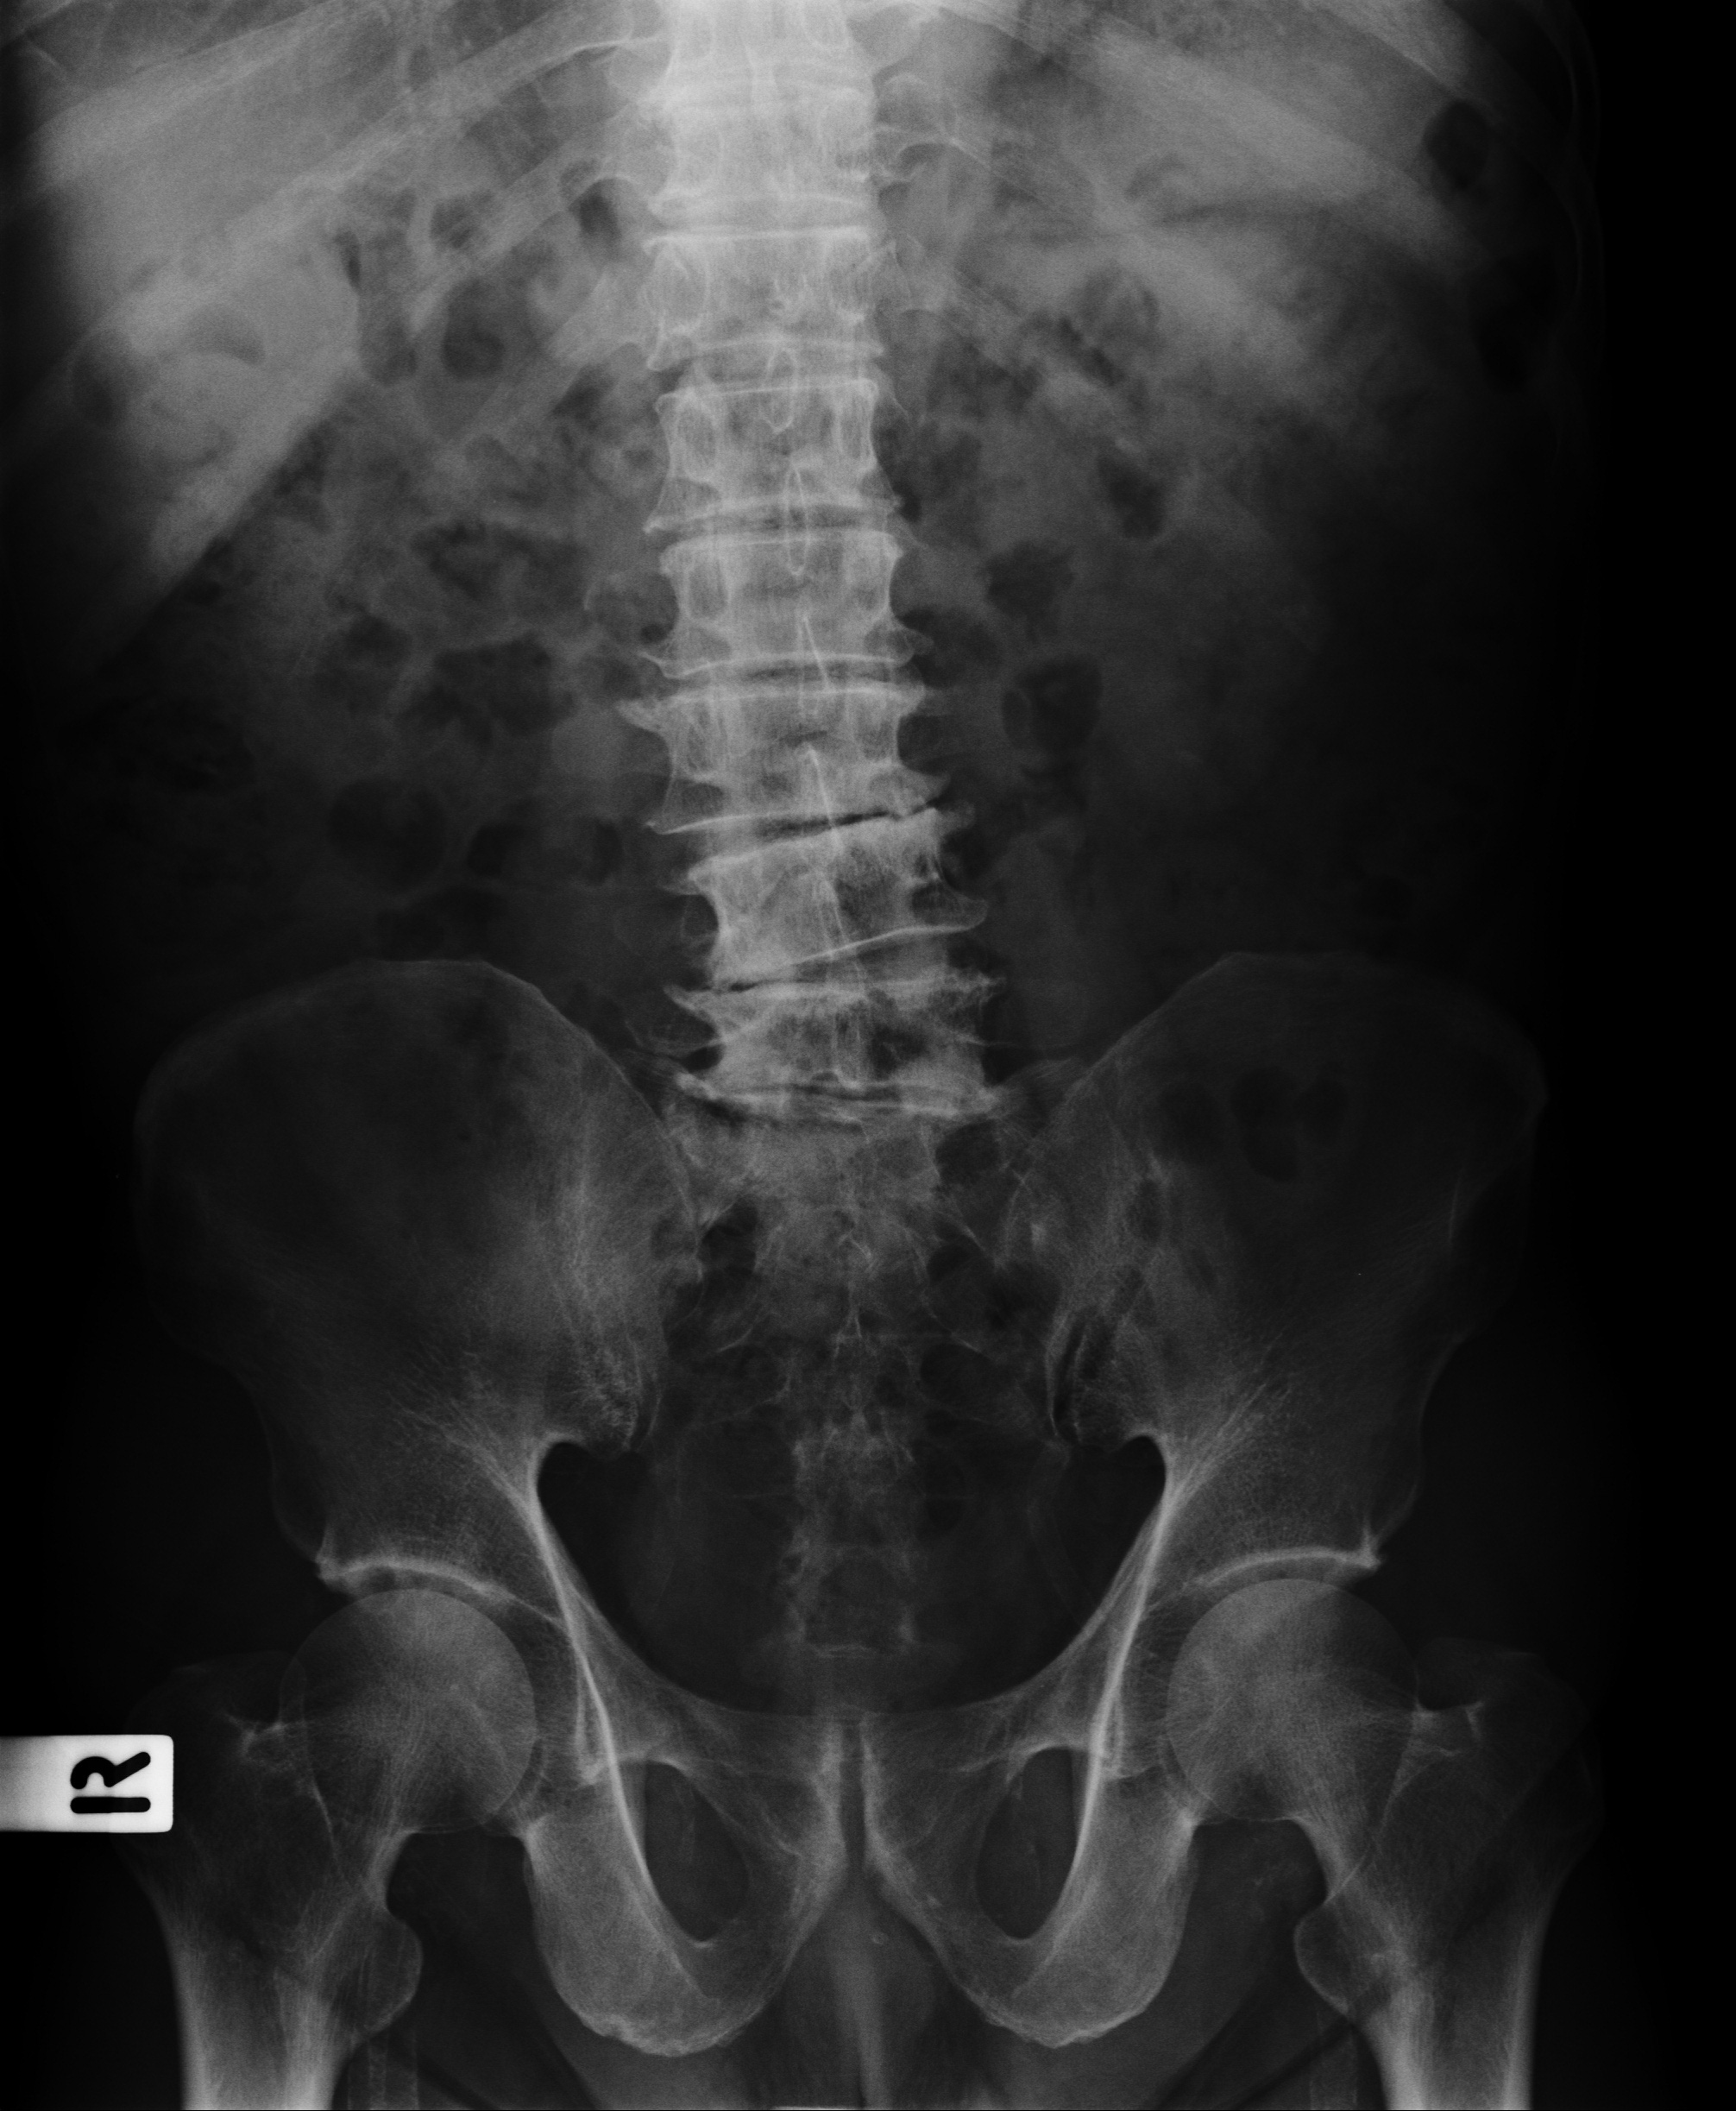lumbar scoliosis: (626, 25, 991, 1287)
